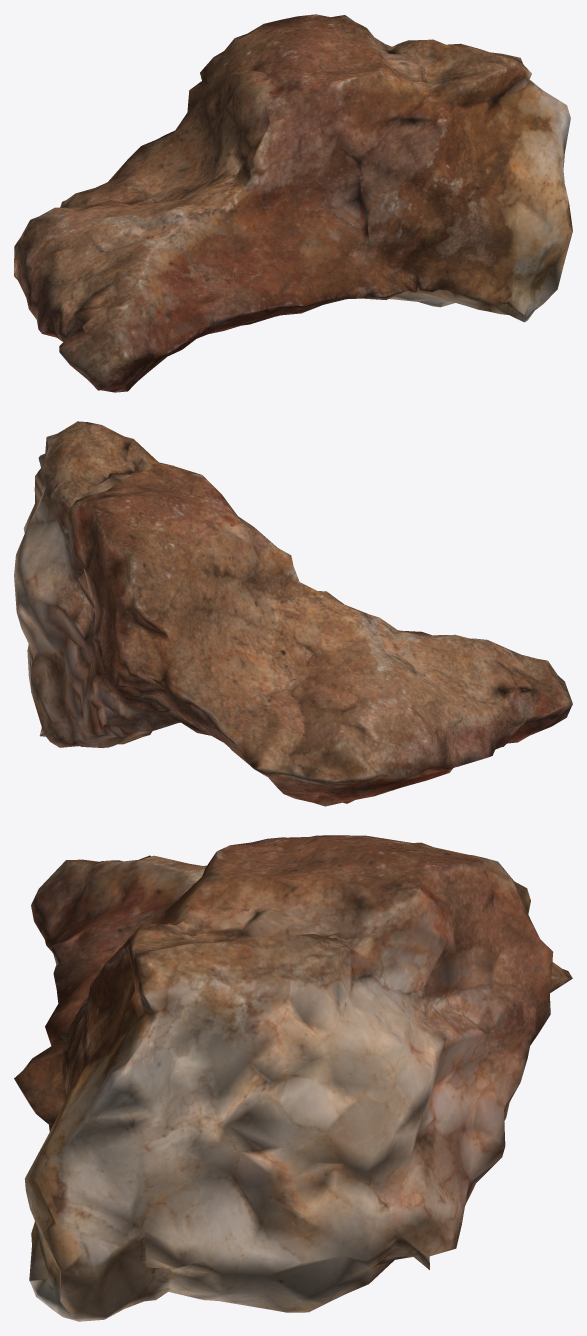
Rendered from stone_01.glb.
3 renders of one model, top to bottom at view 1: azimuth 30°, elevation 25°; view 2: azimuth 150°, elevation 25°; view 3: azimuth 270°, elevation 25°, orthographic. The views are drawn at different scales.
Visible parts, largest first — view 1: stone_01; view 2: stone_01; view 3: stone_01.
Boxes of the visible parts, left/top/right/bottom form: stone_01: left=14, top=14, right=572, bottom=392; stone_01: left=14, top=421, right=572, bottom=806; stone_01: left=14, top=835, right=572, bottom=1321.
Bounding box in the file's own units: 0.1465 × 0.0714 × 0.0889.
1 material, 1 textured.
